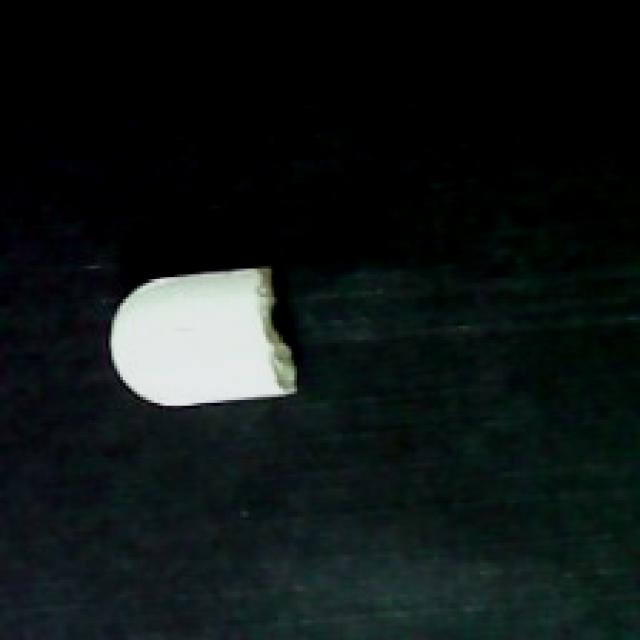defected: (104, 262, 302, 413)
